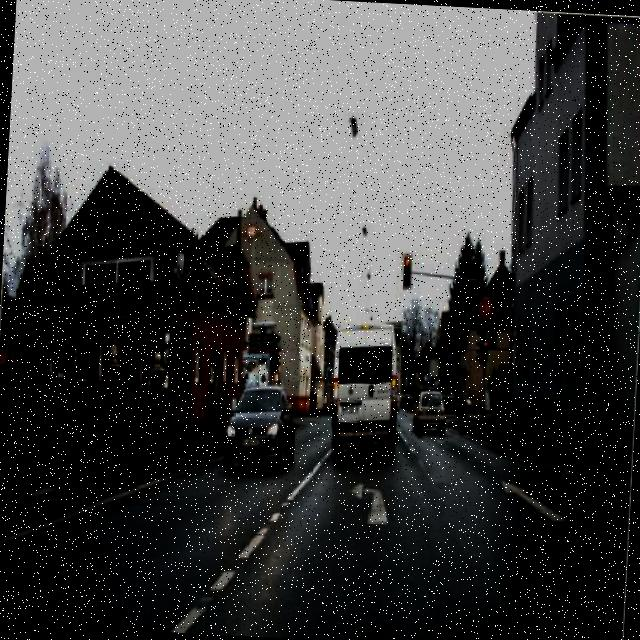Stop: (474, 294, 494, 326)
